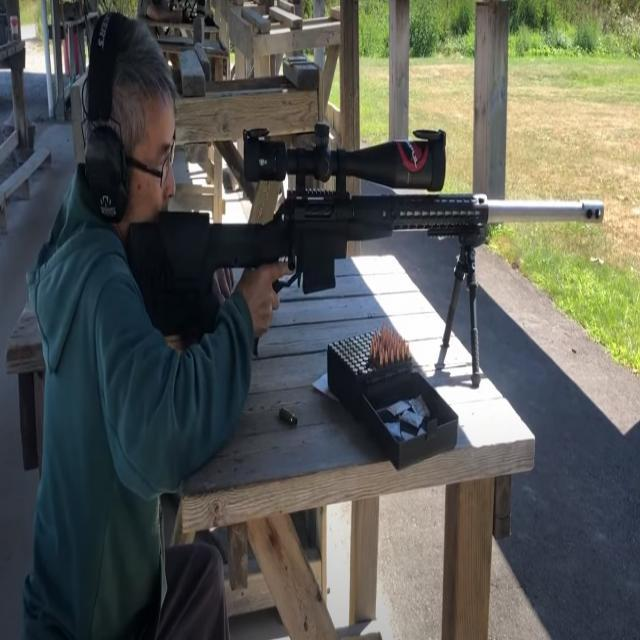rifle: (122, 116, 610, 406)
